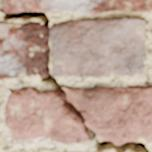brick: (51, 17, 145, 76), (0, 22, 45, 79), (23, 0, 151, 14), (2, 0, 23, 11)
broken_brick: (64, 85, 151, 144), (3, 87, 92, 144)
crack: (0, 0, 151, 151)
